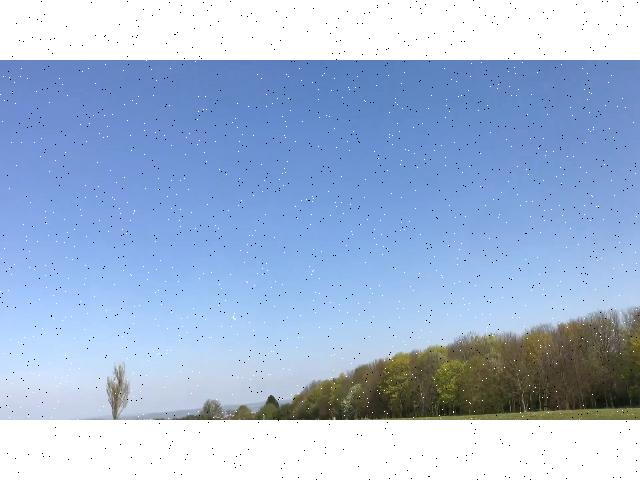Anti-Drone: (228, 315, 244, 327)
